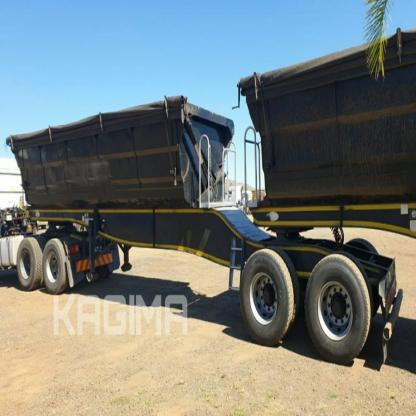dump_truck: (2, 20, 416, 386)
